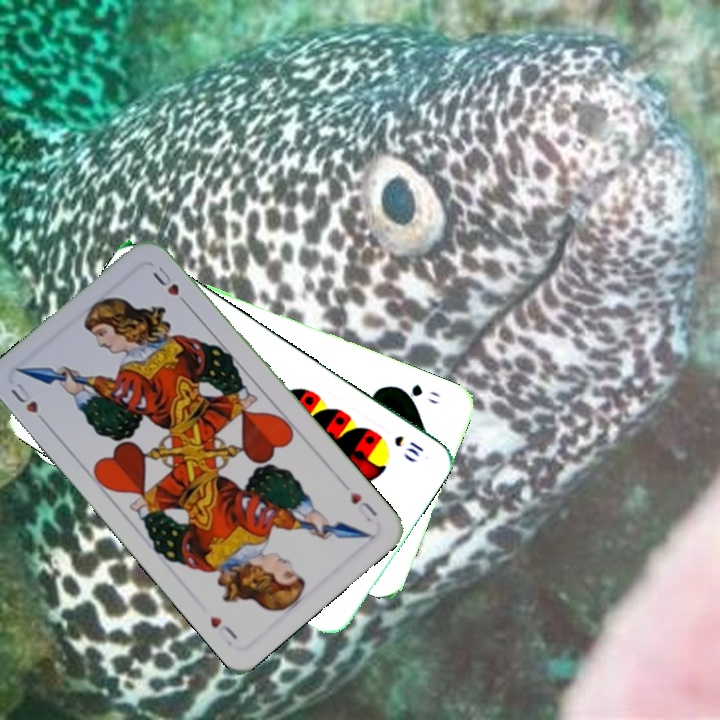GO: (392, 379, 442, 407)
HU: (6, 377, 51, 429), (346, 487, 380, 525)
S10: (390, 431, 427, 459)
